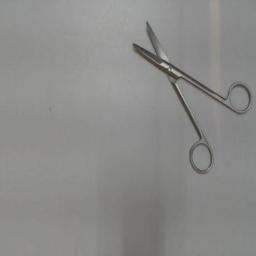Curved Mayo Scissors: (128, 13, 254, 177)
